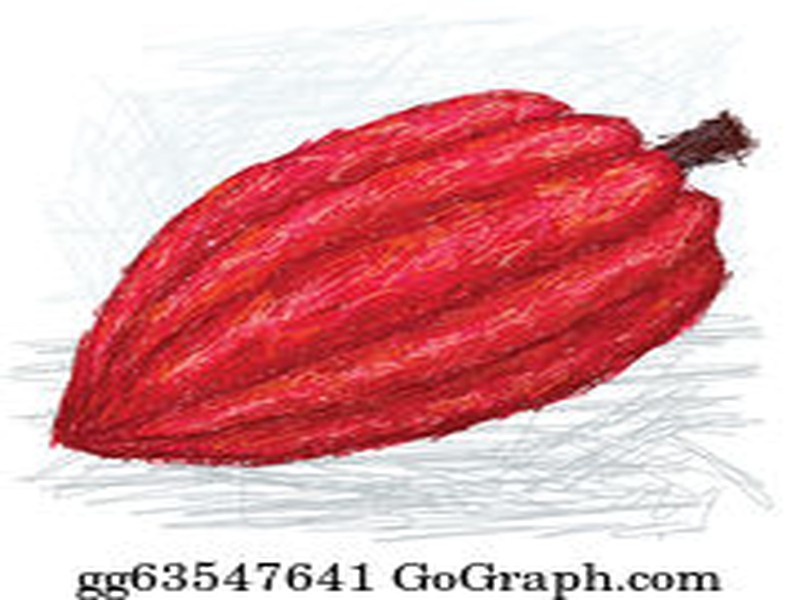Cacaopod: (51, 75, 759, 471)
